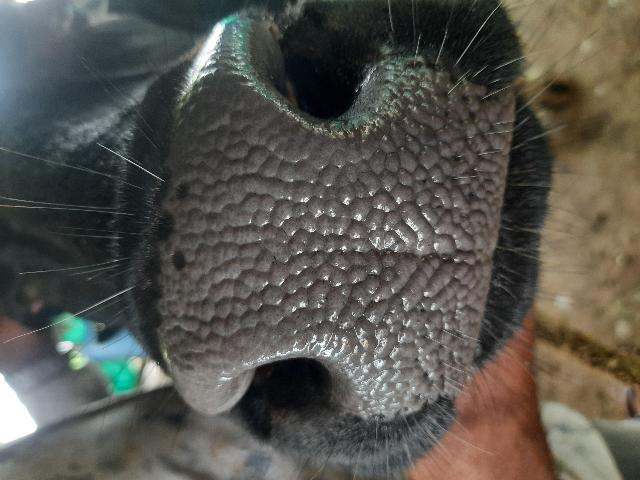Muzzle: (170, 101, 502, 347)
